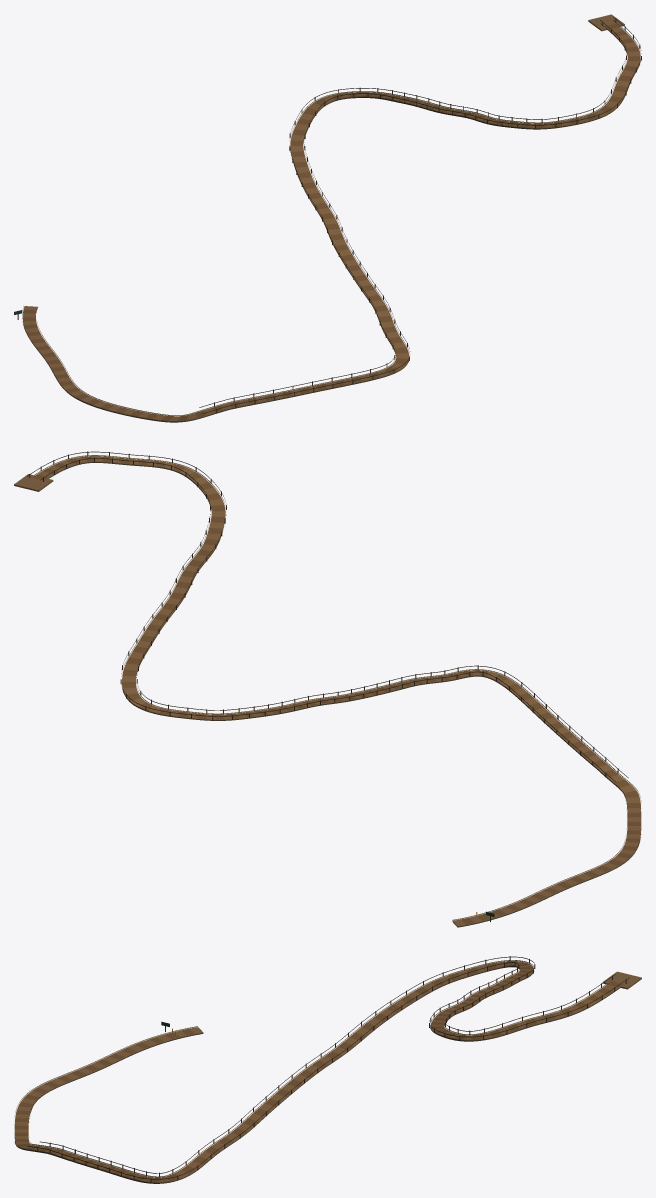
Rendered from SM_Bogota_CaminoMonserrate.fbx.
The picture shows the model from 3 angles, top to bottom: view 1: azimuth 30°, elevation 25°; view 2: azimuth 150°, elevation 25°; view 3: azimuth 330°, elevation 25°; orthographic projection. The views are drawn at different scales.
Visible parts, largest first — view 1: SM_Bogota_CaminoMonserrate; view 2: SM_Bogota_CaminoMonserrate; view 3: SM_Bogota_CaminoMonserrate.
Boxes of the visible parts, x1,y1,x2,y2 form: SM_Bogota_CaminoMonserrate: (14, 14, 641, 422); SM_Bogota_CaminoMonserrate: (14, 451, 641, 927); SM_Bogota_CaminoMonserrate: (14, 956, 641, 1183).
Size of the model in its own units: 148 by 95.8 by 59.91.
